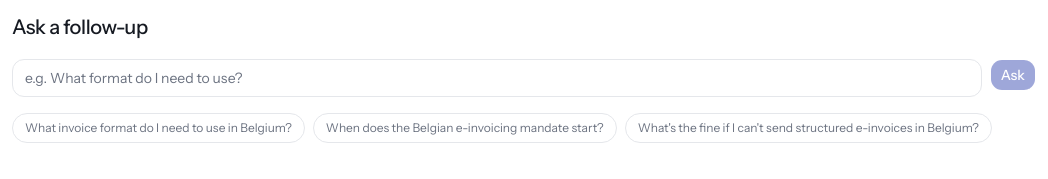
Test: AskPanel - grounded answer › refuses to display an answer the API sent without any citation
This screenshot has width=1048, height=179.
In the field named "ask a question": [497, 78] box [12, 59, 982, 97], type "what format"
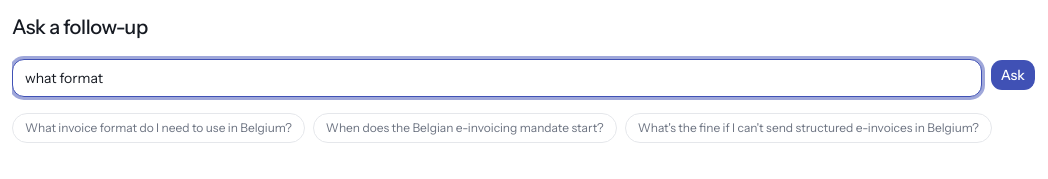
Click the button "Ask": [1013, 75] box [990, 59, 1036, 91]
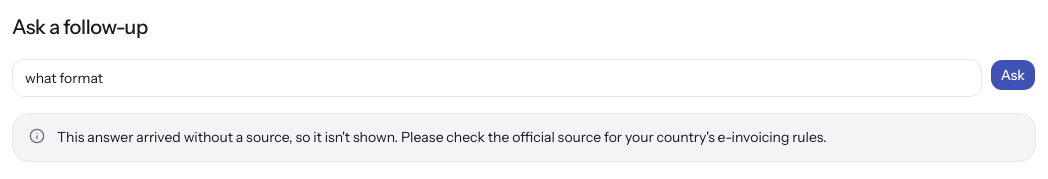
Check: the text "arrived without a source" is shown, box [57, 128, 827, 146]
